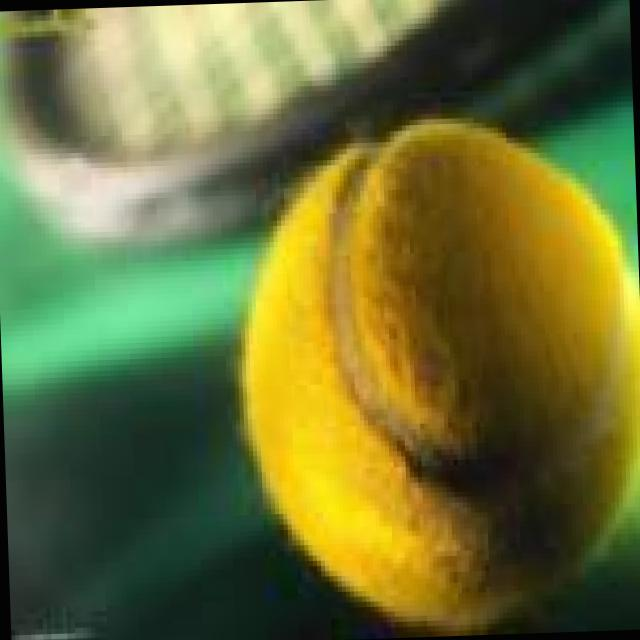Tennis Ball: (240, 119, 640, 632)
Tennis racket: (0, 0, 632, 233)
